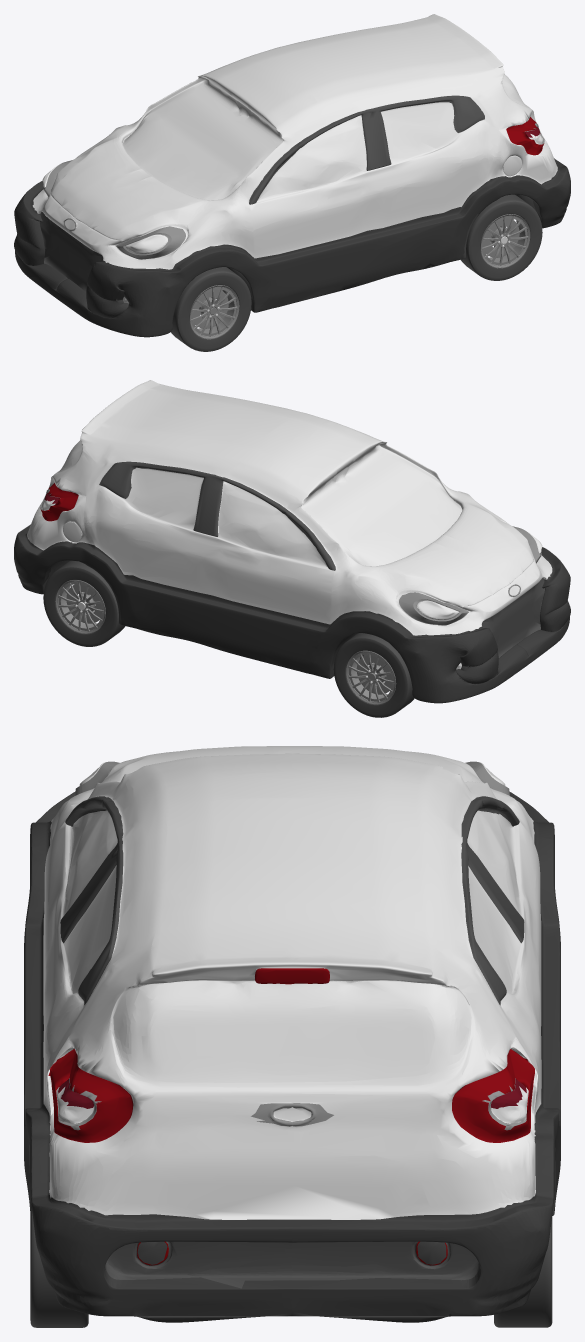
Rendered from auto.fbx.
3 views of the same model, one above another, from view 1: azimuth 30°, elevation 25°; view 2: azimuth 150°, elevation 25°; view 3: azimuth 270°, elevation 25° (orthographic). The views are drawn at different scales.
Parts seen in each view (by area): view 1: Círculo, Wheel_Nearside_Front, Wheel_Nearside_Rear; view 2: Círculo, Wheel_Offside_Front, Wheel_Offside_Rear; view 3: Círculo, Wheel_Nearside_Rear, Wheel_Offside_Rear.
Boxes of the visible parts, x1,y1,x2,y2 form: Círculo: (14,14,570,337); Wheel_Nearside_Front: (171,267,251,351); Wheel_Nearside_Rear: (461,194,542,280); Círculo: (14,380,570,703); Wheel_Offside_Front: (333,633,414,717); Wheel_Offside_Rear: (43,560,125,646); Círculo: (24,746,560,1322); Wheel_Nearside_Rear: (30,1198,88,1327); Wheel_Offside_Rear: (494,1216,552,1327).
Size of the model in its own units: 284 by 117 by 143.
